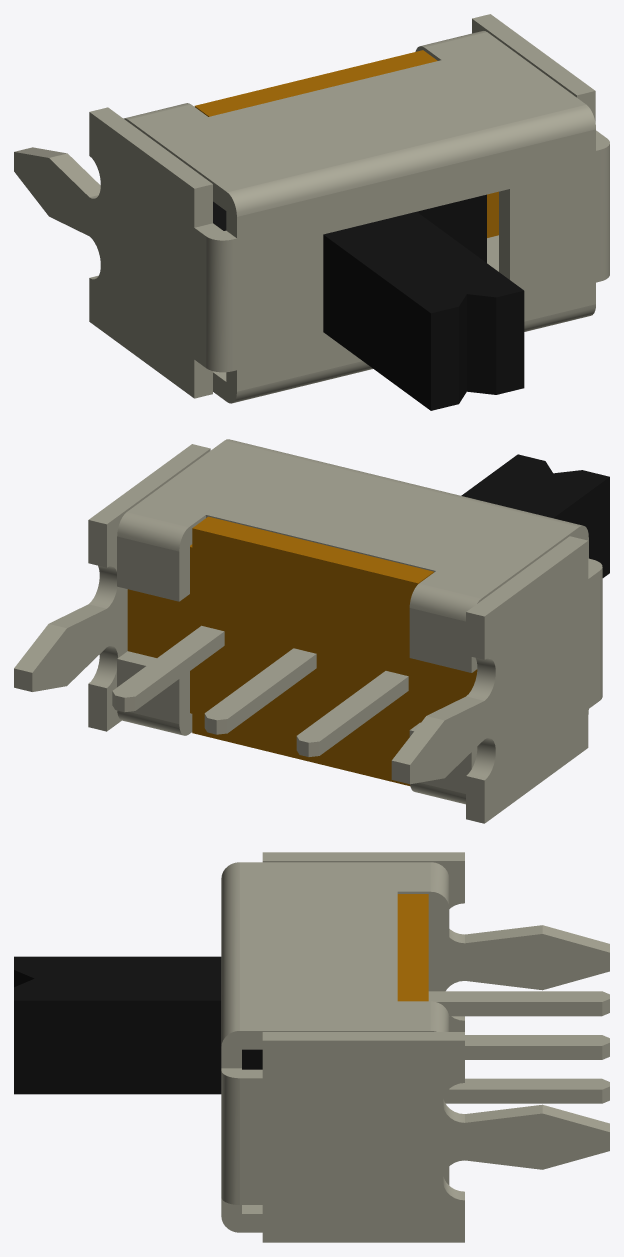
Rendered from sw_slide_spdt_straight_ck_os102011ms2q.glb.
3 renders of one model, top to bottom at view 1: azimuth 30°, elevation 25°; view 2: azimuth 150°, elevation 25°; view 3: azimuth 270°, elevation 25°, orthographic. The views are drawn at different scales.
Parts seen in each view (by area): view 1: SW_Slide_SPDT_Straight_CK_OS102011MS2Q; view 2: SW_Slide_SPDT_Straight_CK_OS102011MS2Q; view 3: SW_Slide_SPDT_Straight_CK_OS102011MS2Q.
Boxes of the visible parts, box(x1,y1,x2,y2) form: SW_Slide_SPDT_Straight_CK_OS102011MS2Q: box(14, 14, 609, 410); SW_Slide_SPDT_Straight_CK_OS102011MS2Q: box(14, 439, 609, 823); SW_Slide_SPDT_Straight_CK_OS102011MS2Q: box(14, 852, 609, 1242).
Size of the model in its own units: 8.6 by 4.3 by 11.5.
